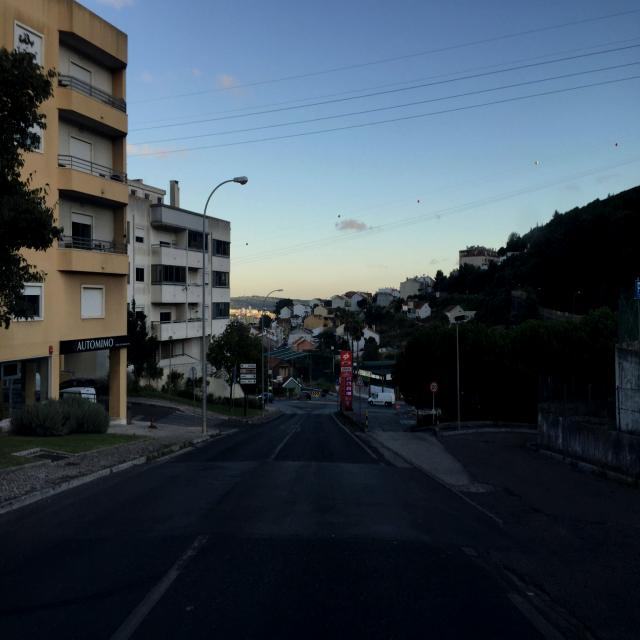car: (256, 390, 274, 405), (297, 387, 313, 401)
